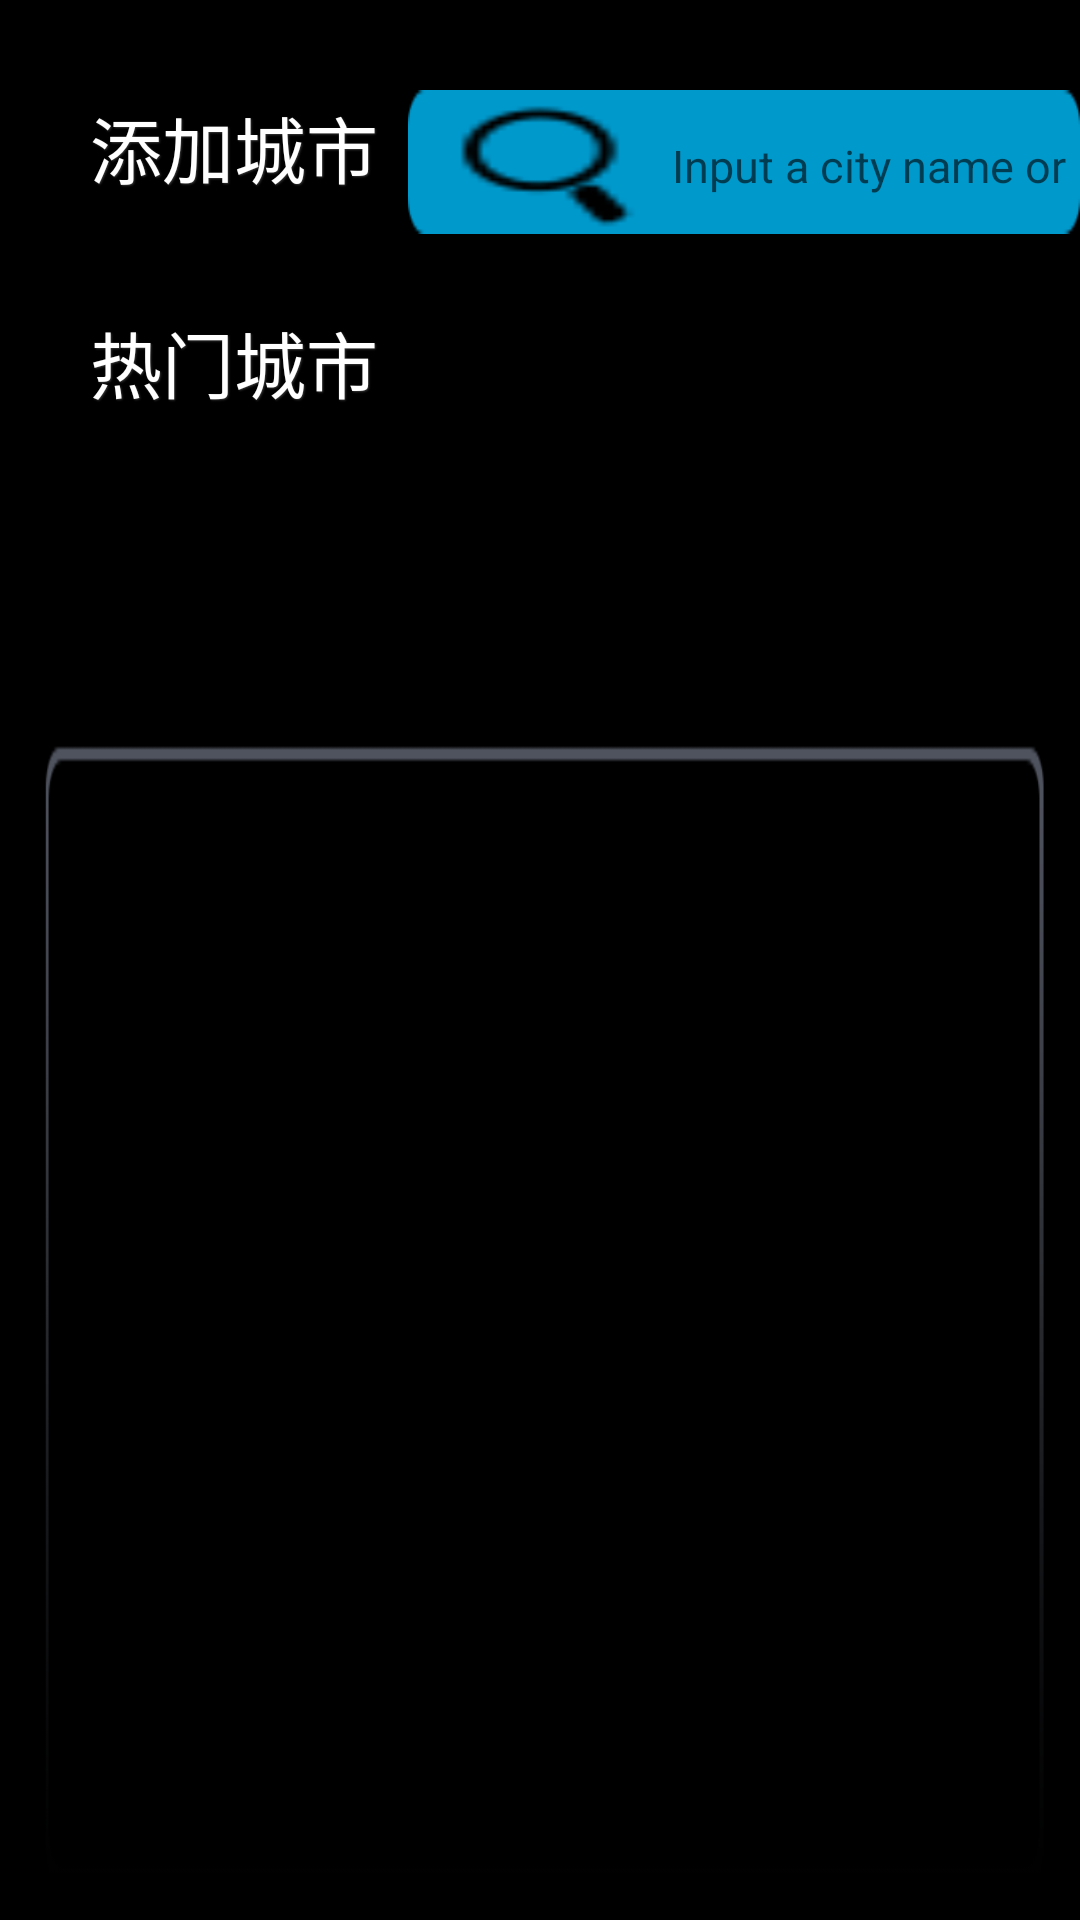

Screen size 1080x1920. Icon name, then its box in pixels as (x1, y1, x2, y2):
search city change: (408, 90, 672, 234)
